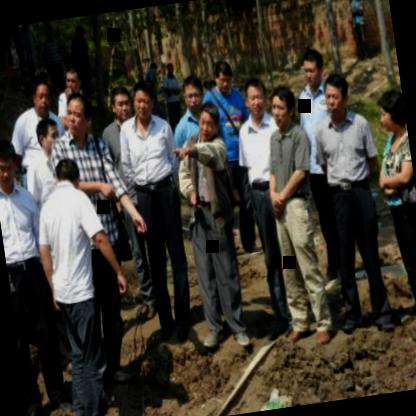head: (58, 87, 96, 142), (317, 68, 354, 123), (374, 86, 408, 142), (264, 80, 300, 132), (127, 75, 162, 125), (50, 150, 86, 198), (239, 74, 271, 126), (296, 46, 327, 92), (32, 115, 63, 157), (0, 136, 22, 195), (193, 102, 224, 142), (178, 74, 207, 116), (27, 74, 57, 114), (107, 82, 134, 125), (211, 57, 236, 95), (63, 60, 86, 98)
